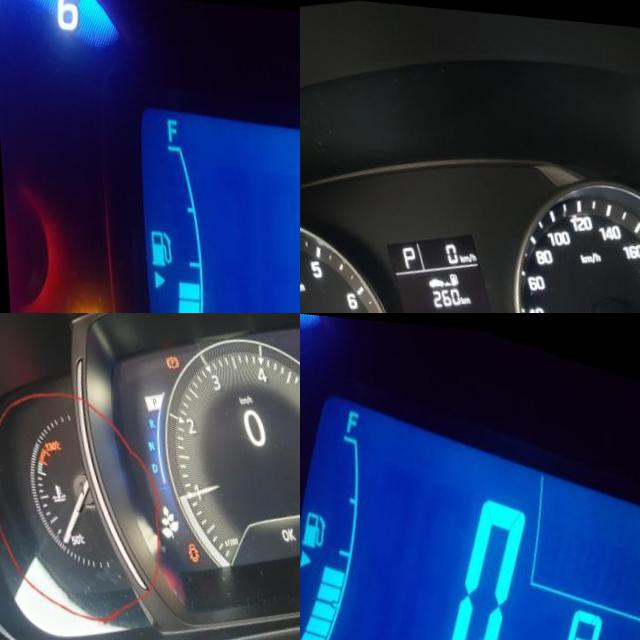Doors: (178, 534, 194, 557)
